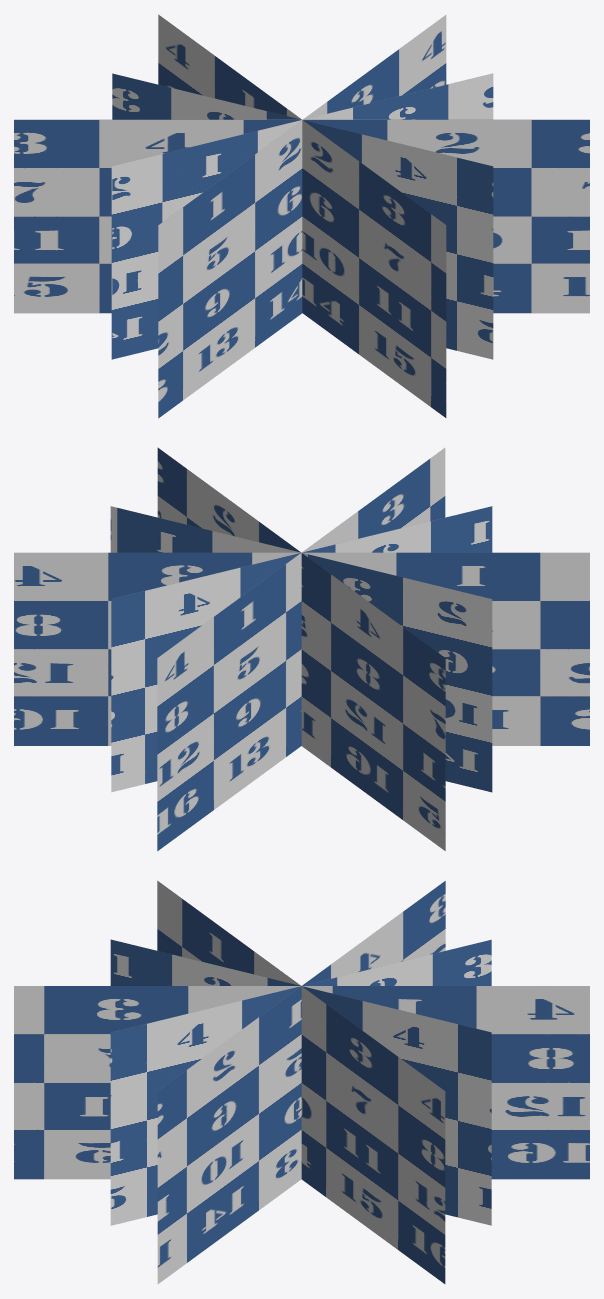
File: Akaza_Compass3.fbx
3 views of the same model, one above another, from view 1: azimuth 30°, elevation 25°; view 2: azimuth 150°, elevation 25°; view 3: azimuth 270°, elevation 25° (orthographic).
Visible parts, largest first — view 1: SM_e_Plc_P1012_Compass003; view 2: SM_e_Plc_P1012_Compass003; view 3: SM_e_Plc_P1012_Compass003.
Boxes of the visible parts, x1,y1,x2,y2 form: SM_e_Plc_P1012_Compass003: (14, 14, 589, 418); SM_e_Plc_P1012_Compass003: (14, 447, 589, 851); SM_e_Plc_P1012_Compass003: (14, 880, 589, 1284).
Size of the model in its own units: 117 by 50 by 135.
